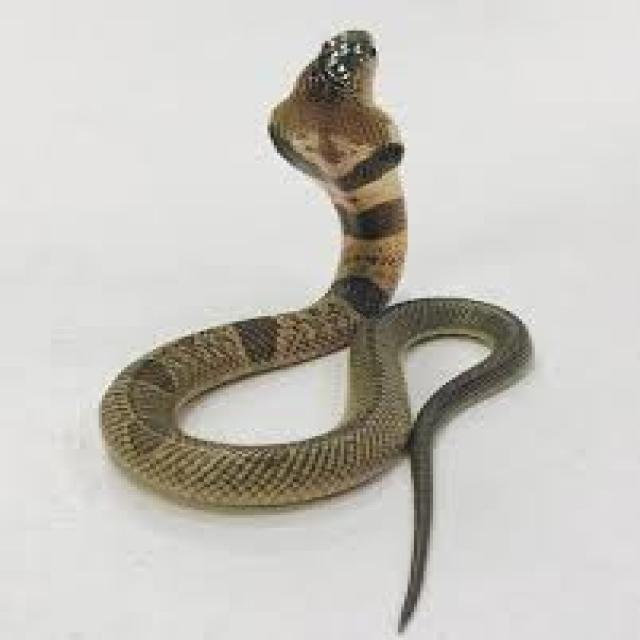Venomous: (255, 31, 435, 221)
